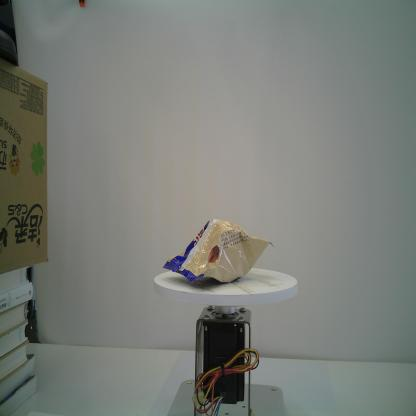Dessert: (162, 218, 274, 283)
